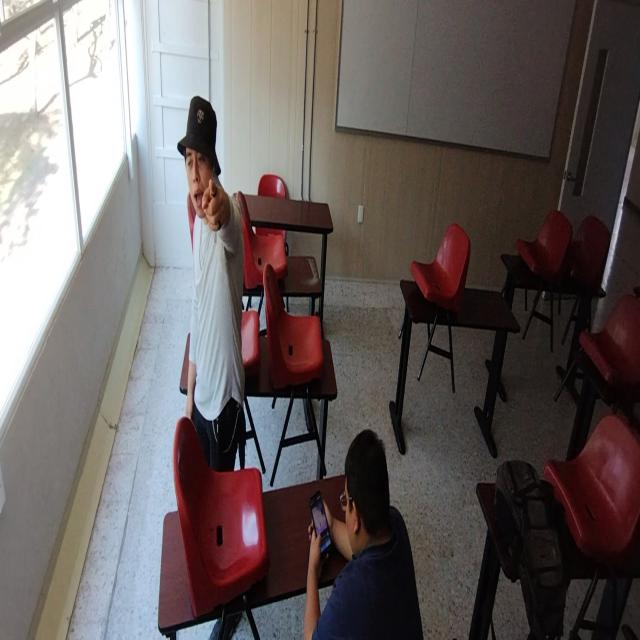adult: (307, 423, 423, 640), (182, 97, 245, 455)
